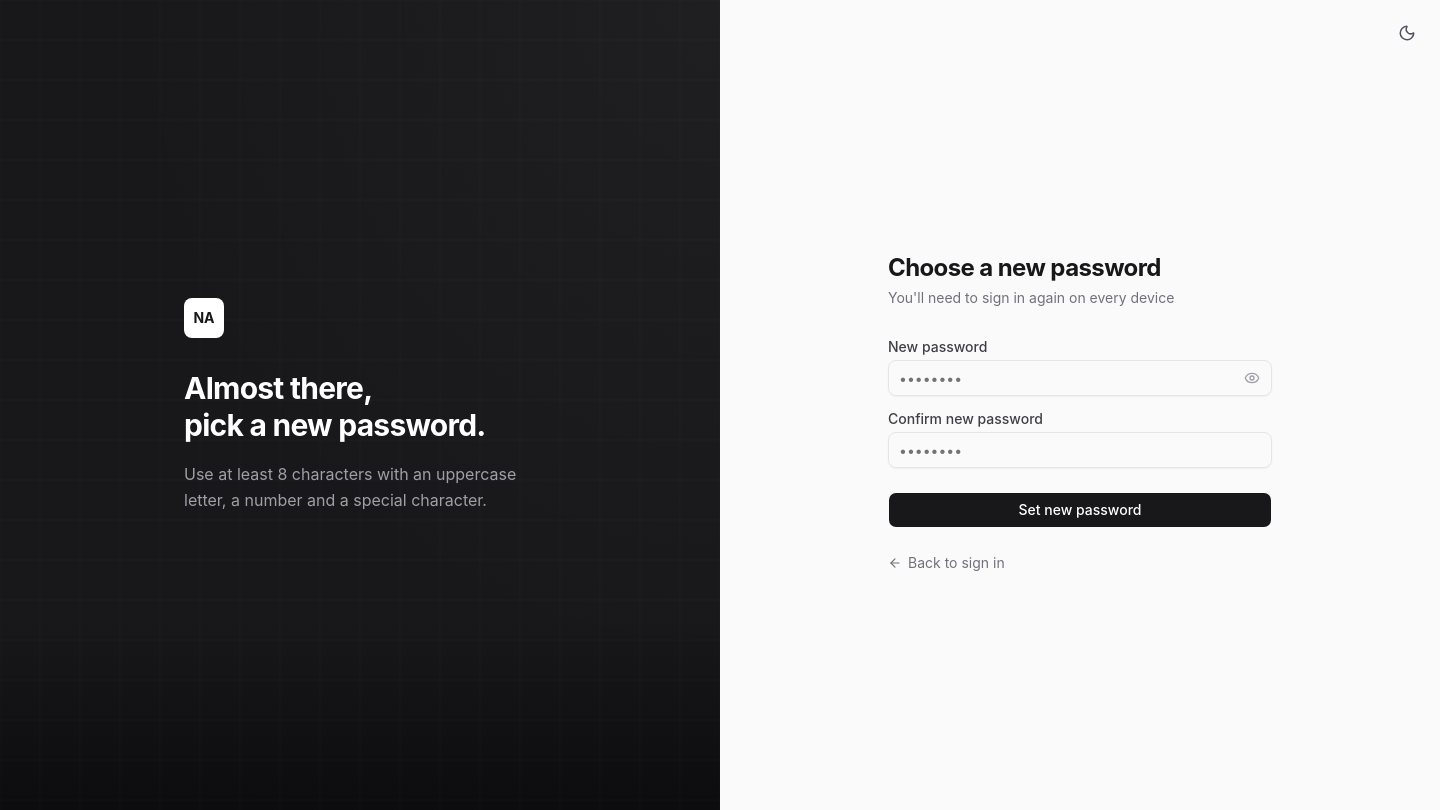
Test: ResetPasswordForm › shows a backend password rule next to the field
Type "Secret123!" into the password field labelled "New password".
click(1080, 378); type("Secret123!")  # box [888,360,1272,396]
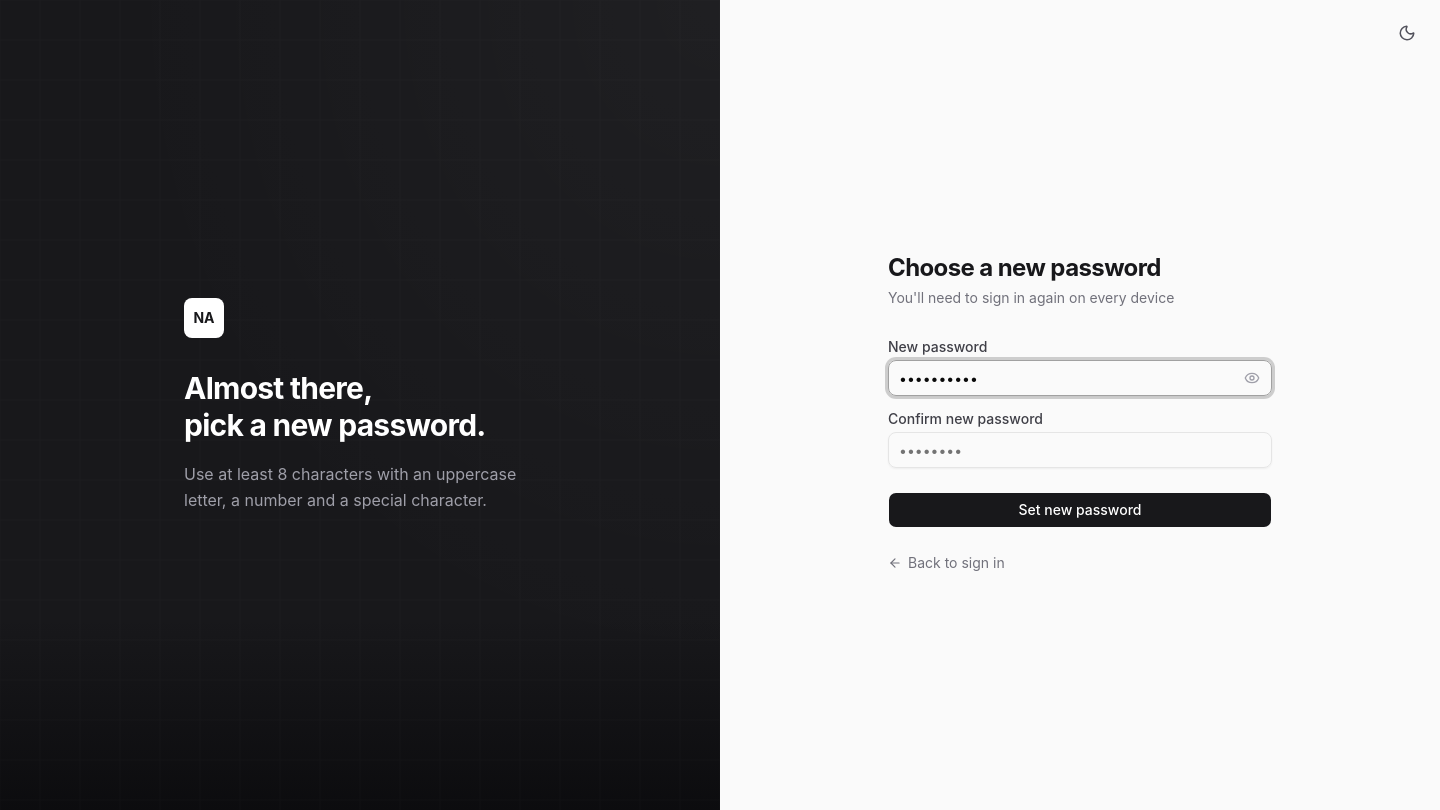
Type "Secret123!" into the password field labelled "Confirm new password".
click(1080, 450); type("Secret123!")  # box [888,432,1272,468]
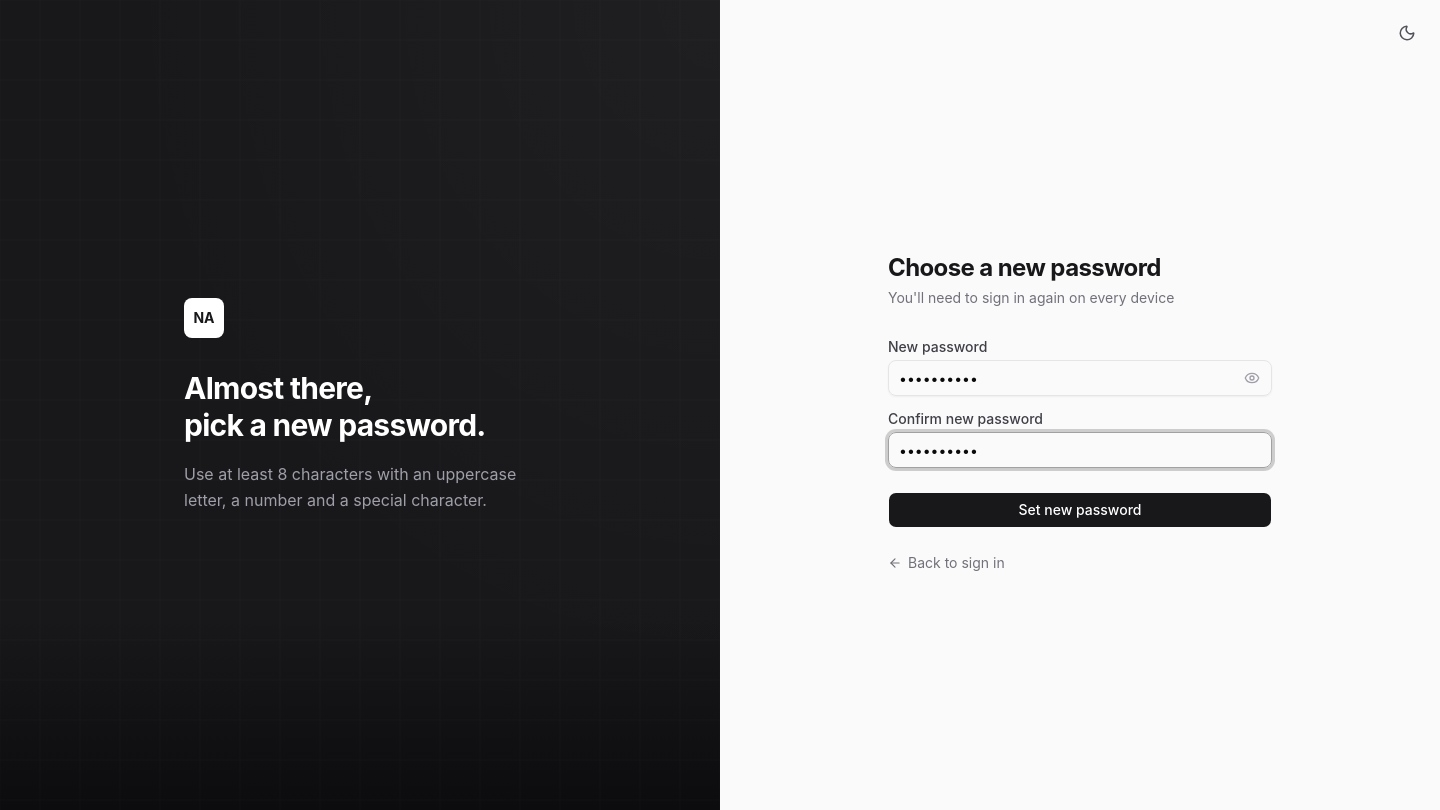
Click the button "Set new password".
click(1080, 510)  # box [888,492,1272,528]
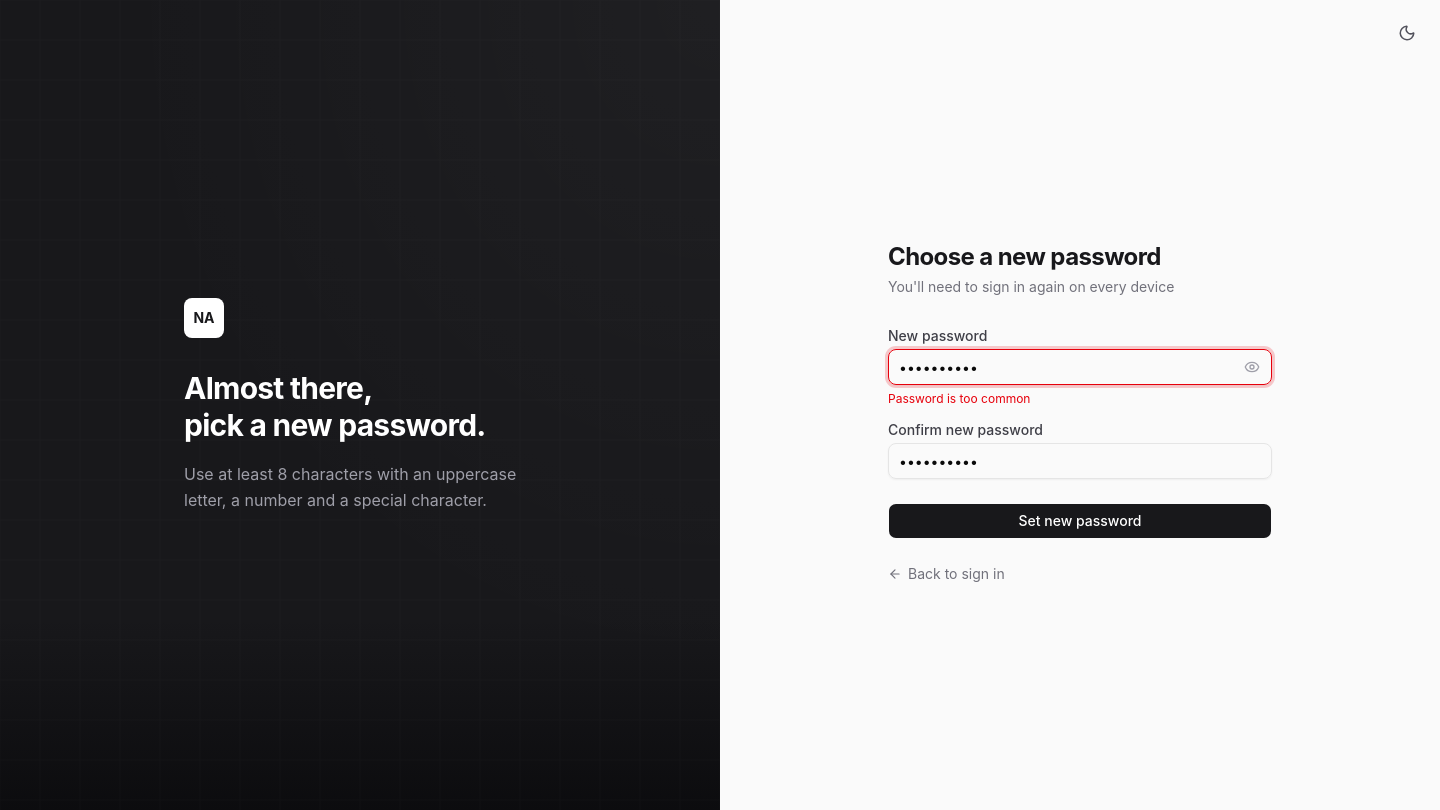
Expected: the text "Password is too common" is shown, [888,391,1030,406]
